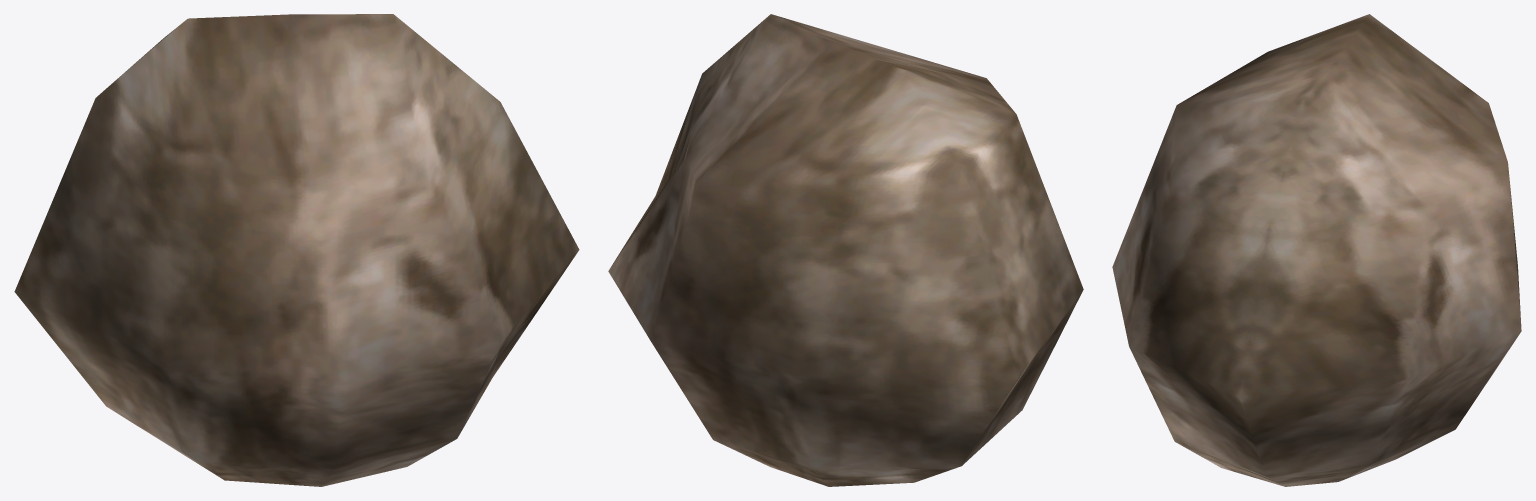
Rendered from OVERHILL_A_01_ROCK52.fbx.
The picture shows the model from 3 angles, left to right: view 1: azimuth 30°, elevation 25°; view 2: azimuth 150°, elevation 25°; view 3: azimuth 270°, elevation 25°; orthographic projection. The views are drawn at different scales.
Visible parts, largest first — view 1: OVERHILL_A_01_ROCK52; view 2: OVERHILL_A_01_ROCK52; view 3: OVERHILL_A_01_ROCK52.
Boxes of the visible parts, x1,y1,x2,y2 form: OVERHILL_A_01_ROCK52: [14, 14, 579, 486]; OVERHILL_A_01_ROCK52: [608, 14, 1083, 486]; OVERHILL_A_01_ROCK52: [1112, 14, 1521, 486].
Size of the model in its own units: 13728 by 11903 by 11280.
1 material, 1 textured.
